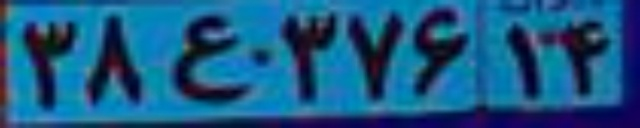1: (501, 23, 545, 100)
3: (276, 10, 337, 104), (20, 20, 78, 111)
4: (560, 21, 611, 96)
6: (411, 7, 467, 100)
7: (346, 10, 403, 102)
8: (88, 15, 143, 107)
ain: (171, 14, 252, 102)
